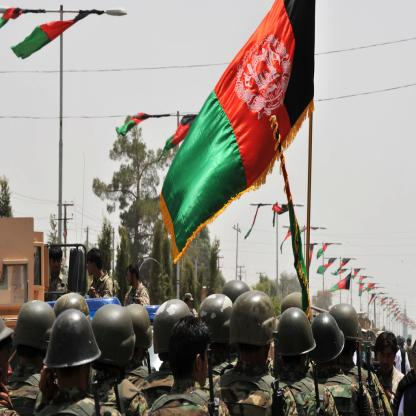Helmet: (38, 310, 99, 396), (236, 285, 279, 354), (94, 304, 136, 368), (4, 299, 58, 346), (274, 306, 318, 359), (157, 299, 195, 351), (200, 292, 234, 345), (122, 300, 152, 359), (311, 312, 345, 364), (330, 302, 361, 352), (52, 290, 92, 324), (0, 305, 16, 362), (223, 276, 253, 304), (278, 290, 309, 311)
